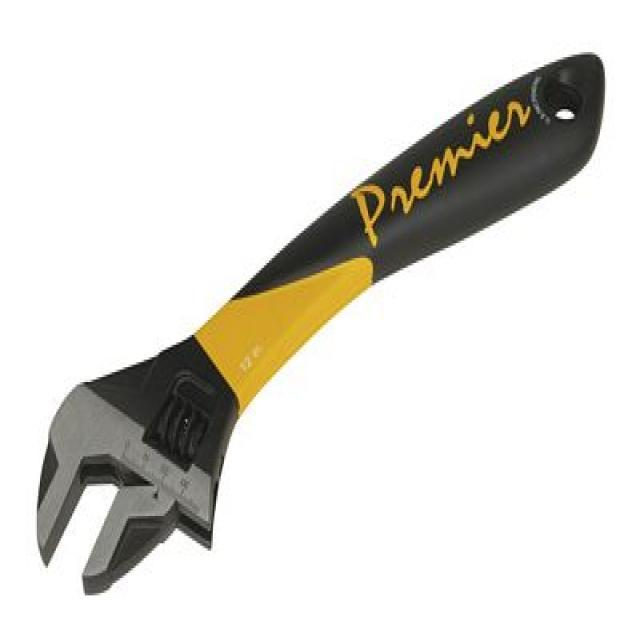wrench: (31, 43, 613, 597)
